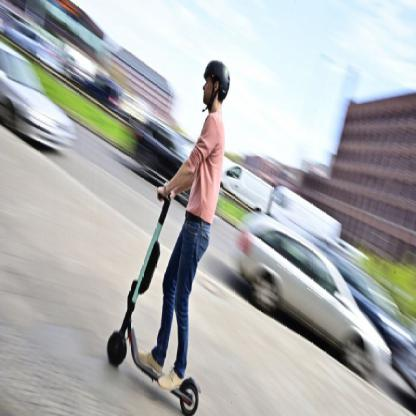scooter: (107, 185, 202, 415)
with helmet: (201, 59, 230, 110)
